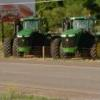Tractor: (13, 9, 100, 68)
